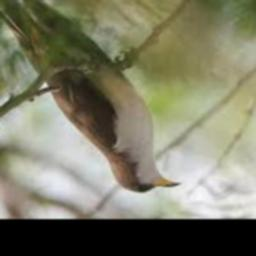Cuckoo: (0, 0, 181, 192)
